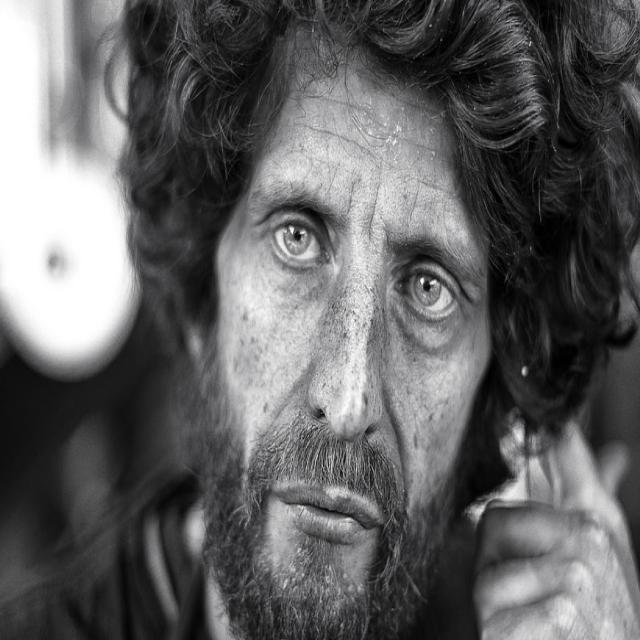Wrinkles: (361, 74, 433, 112), (392, 136, 450, 154), (369, 174, 380, 239), (361, 109, 385, 125), (426, 184, 453, 194), (310, 126, 335, 135), (410, 195, 418, 220), (354, 142, 371, 152), (325, 98, 348, 104), (411, 177, 426, 184), (453, 194, 463, 203), (377, 130, 392, 136), (348, 104, 361, 109), (335, 135, 347, 139), (296, 123, 310, 126), (347, 139, 354, 142)
